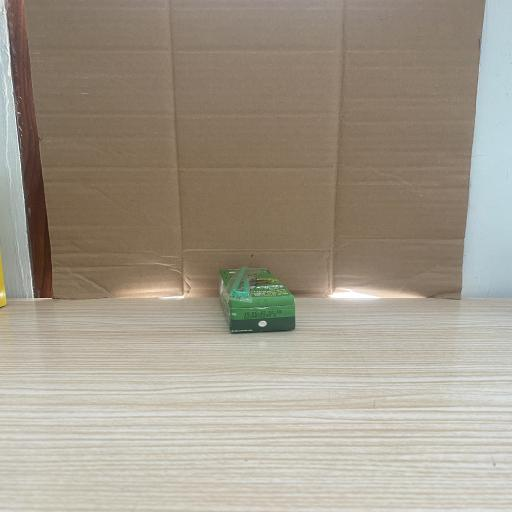milo: (219, 266, 296, 332)
